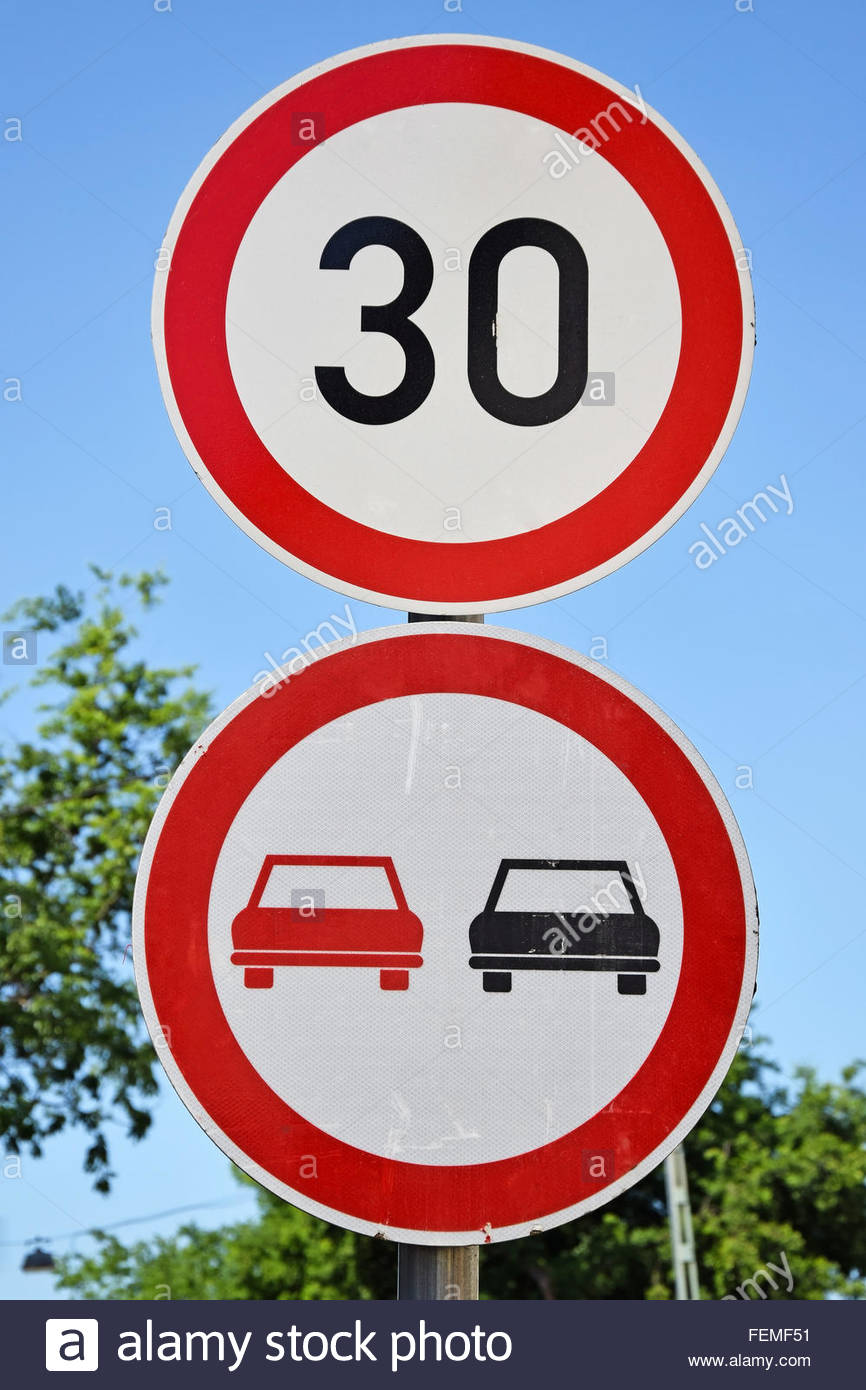Speed_limit_30km: (150, 45, 759, 609)
